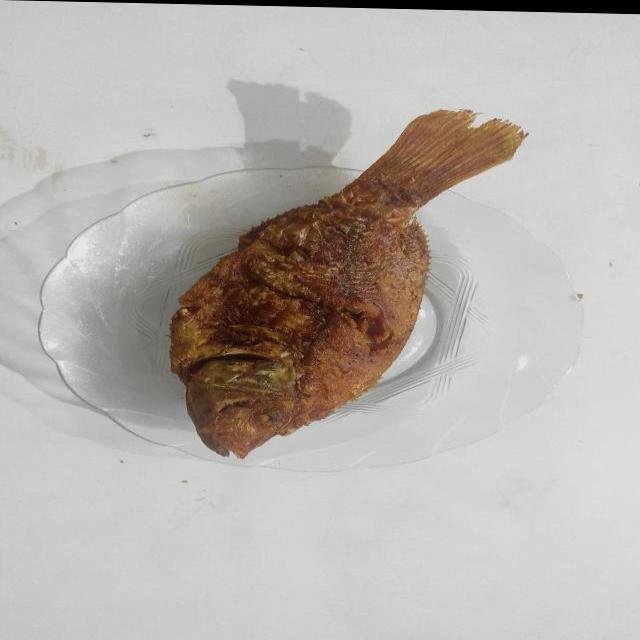ikan_mujair: (170, 110, 524, 457)
